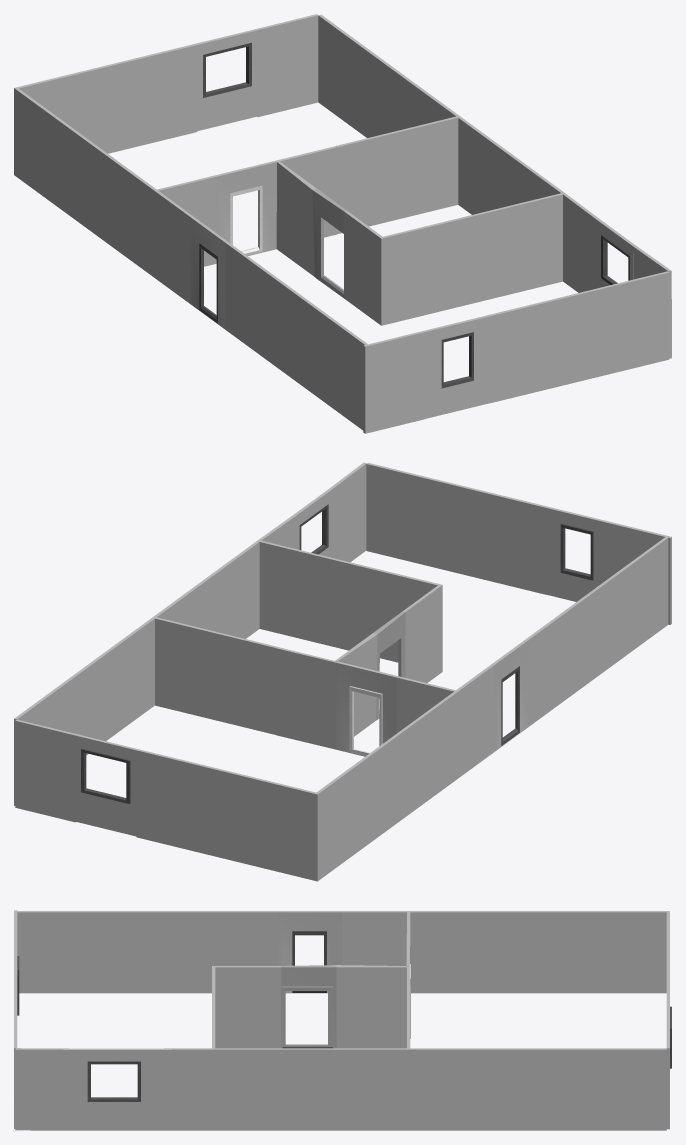
The model's file is BlockWall.fbx.
3 renders of one model, top to bottom at view 1: azimuth 30°, elevation 25°; view 2: azimuth 150°, elevation 25°; view 3: azimuth 270°, elevation 25°, orthographic. The views are drawn at different scales.
Visible parts, largest first — view 1: Wall1; view 2: Wall1; view 3: Wall1.
Part boxes in pixels (<box>): Wall1: <box>14,14,671,433</box>; Wall1: <box>14,462,671,881</box>; Wall1: <box>14,910,671,1130</box>.
Bounding box in the file's own units: 2043 × 553 × 4052.
